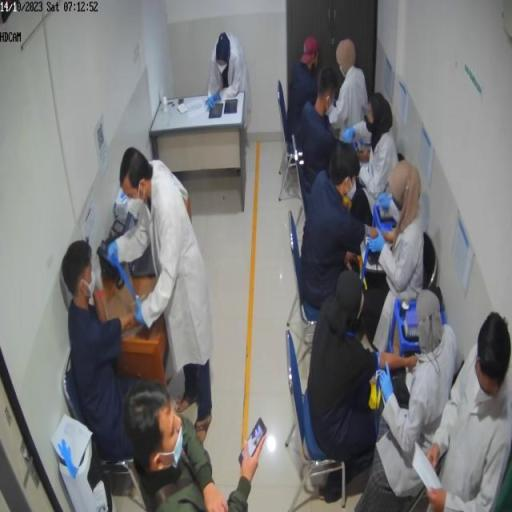person: (117, 147, 215, 444), (306, 272, 419, 495), (61, 239, 165, 461), (355, 292, 458, 511), (125, 384, 268, 512), (425, 312, 512, 511), (300, 141, 375, 309), (375, 160, 426, 306), (98, 190, 155, 294), (356, 92, 400, 223), (300, 68, 341, 199), (207, 32, 251, 129), (328, 39, 370, 137), (288, 36, 322, 146)
